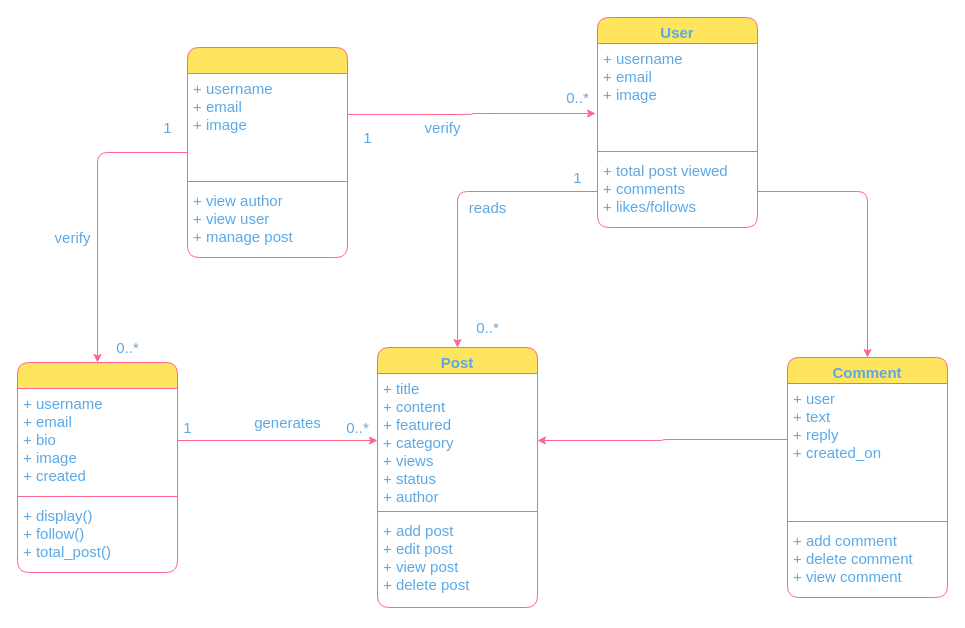
Some shapes in this 965 by 628 pixel diagram are drawn without their labels. Here are the shapes that lost their labels. From the top down, the box of each, then its label:
(186, 46, 348, 258): Admin
(16, 362, 178, 572): Author
